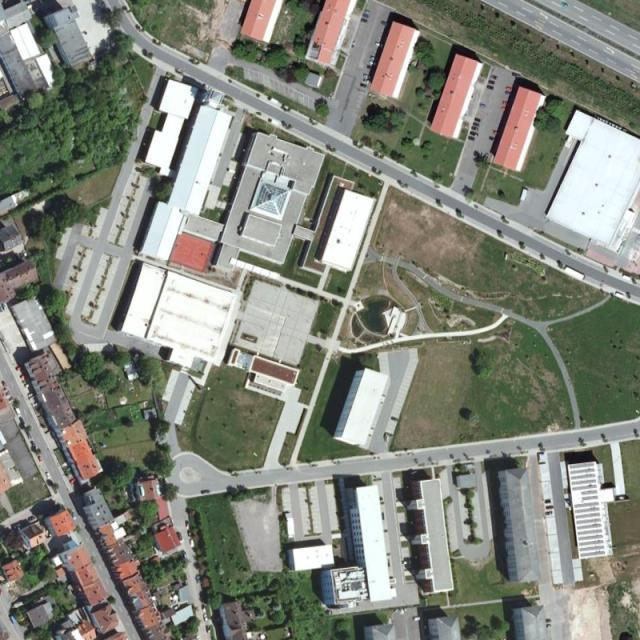vehicle: (470, 130, 479, 138), (380, 20, 390, 27), (370, 55, 380, 62), (490, 74, 500, 81), (177, 531, 184, 541), (501, 106, 510, 113), (375, 42, 384, 49), (181, 550, 188, 559), (203, 614, 210, 623), (368, 60, 378, 66), (487, 80, 496, 86), (473, 117, 482, 123), (471, 122, 480, 128), (470, 126, 479, 132), (493, 130, 502, 136), (502, 101, 511, 107), (506, 86, 515, 92), (363, 74, 373, 79), (489, 137, 499, 142), (197, 575, 202, 585), (190, 538, 195, 548), (361, 83, 368, 90), (486, 85, 494, 91), (506, 91, 514, 97), (46, 471, 52, 479), (512, 72, 520, 78), (359, 18, 368, 23), (367, 65, 376, 70), (362, 78, 371, 83), (468, 135, 474, 142), (561, 2, 568, 8), (362, 14, 370, 19), (206, 626, 211, 634), (202, 490, 211, 494), (403, 561, 412, 565), (544, 499, 551, 504), (363, 10, 371, 14), (186, 521, 190, 529), (188, 530, 192, 538), (545, 512, 553, 516), (546, 506, 554, 510), (1, 587, 4, 596)
